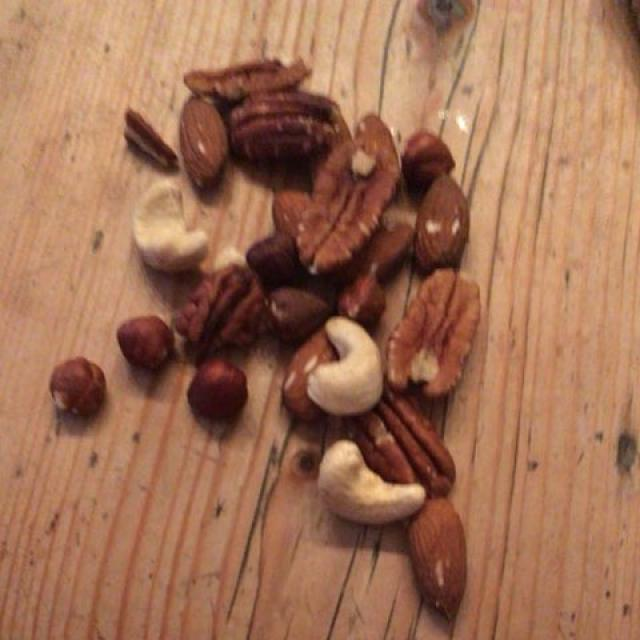mixed-nuts: (42, 52, 487, 622)
